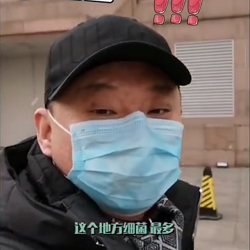mask: (65, 109, 185, 215)
